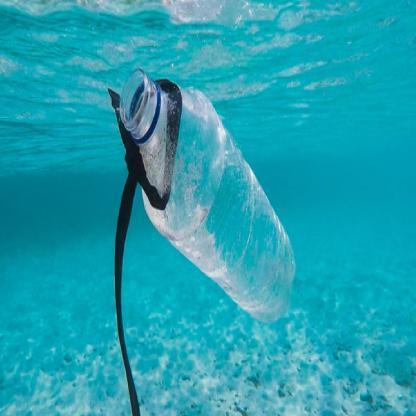plastic bottle: (119, 68, 297, 322)
